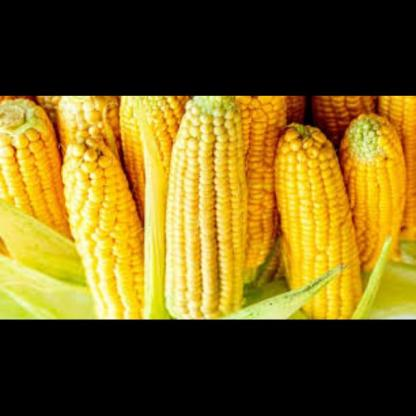corn: (155, 97, 256, 320), (55, 126, 149, 320), (274, 123, 365, 320), (341, 115, 413, 280), (0, 96, 73, 234), (235, 96, 286, 272), (122, 96, 180, 228), (50, 96, 126, 142), (315, 96, 375, 137)
